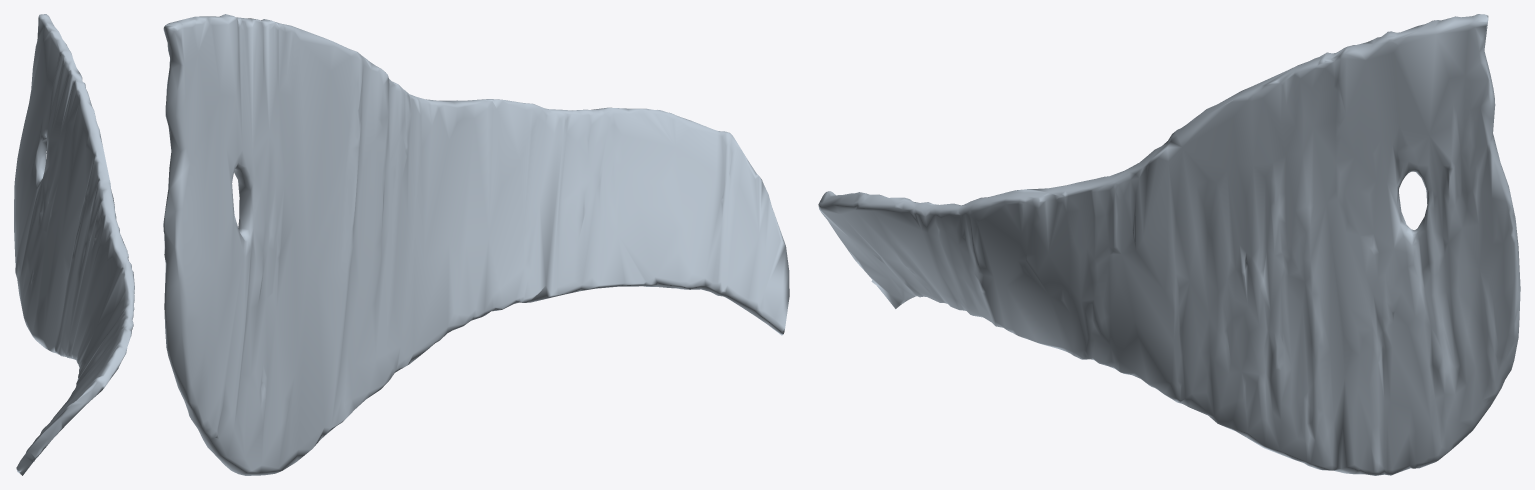
Rendered from quadrangular-membrane-l.glb.
The picture shows the model from 3 angles, left to right: view 1: azimuth 30°, elevation 25°; view 2: azimuth 150°, elevation 25°; view 3: azimuth 270°, elevation 25°; orthographic projection. The views are drawn at different scales.
Parts seen in each view (by area): view 1: Quadrangular membrane.l; view 2: Quadrangular membrane.l; view 3: Quadrangular membrane.l.
Part boxes in pixels (bbox=[...]): Quadrangular membrane.l: bbox=[14, 14, 134, 475]; Quadrangular membrane.l: bbox=[163, 14, 789, 475]; Quadrangular membrane.l: bbox=[818, 14, 1520, 475].
Bounding box in the file's own units: 0.016 × 0.0216 × 0.0285.
